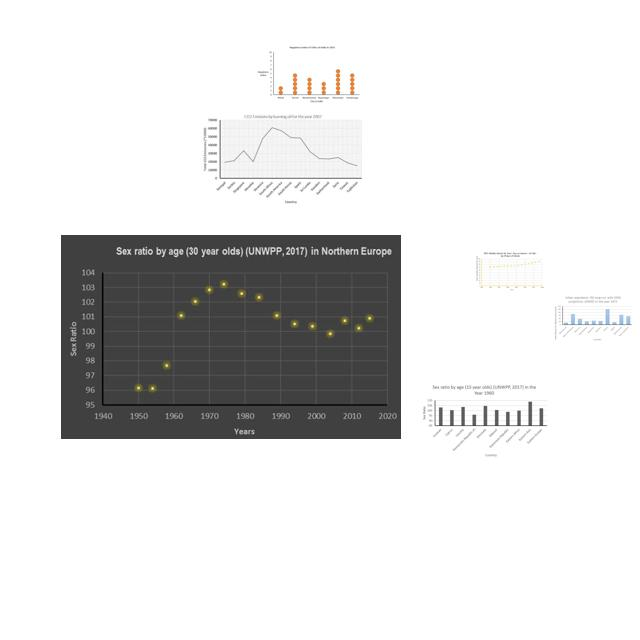Graph: (61, 235, 401, 439), (203, 114, 362, 204), (419, 382, 550, 459), (256, 45, 361, 104), (553, 295, 633, 342), (475, 251, 545, 292)
